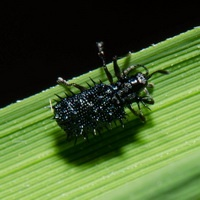insect: (50, 42, 168, 142)
